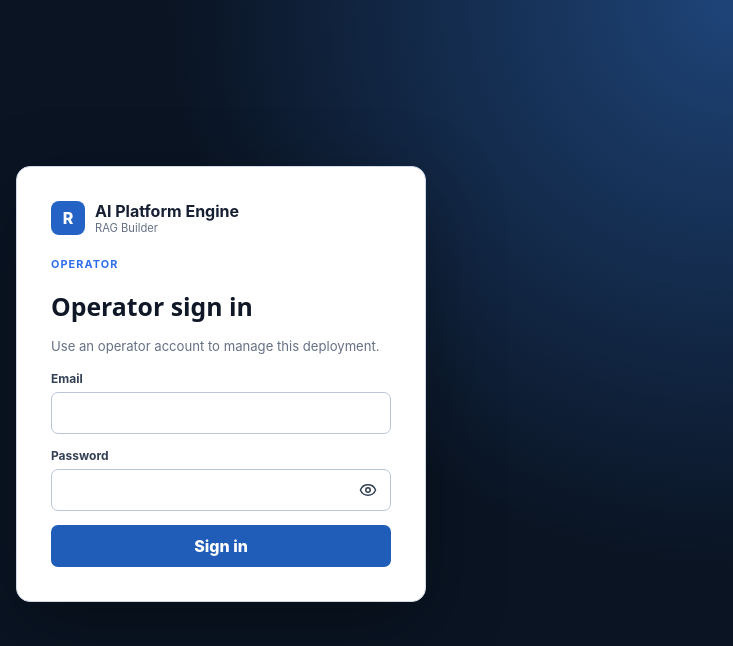
Test: validates required login credentials before submitting
What coordinates should you click on to do the following:
click the button "Sign in"
I would click on:
 (221, 546)
Its box is [51, 525, 391, 567].
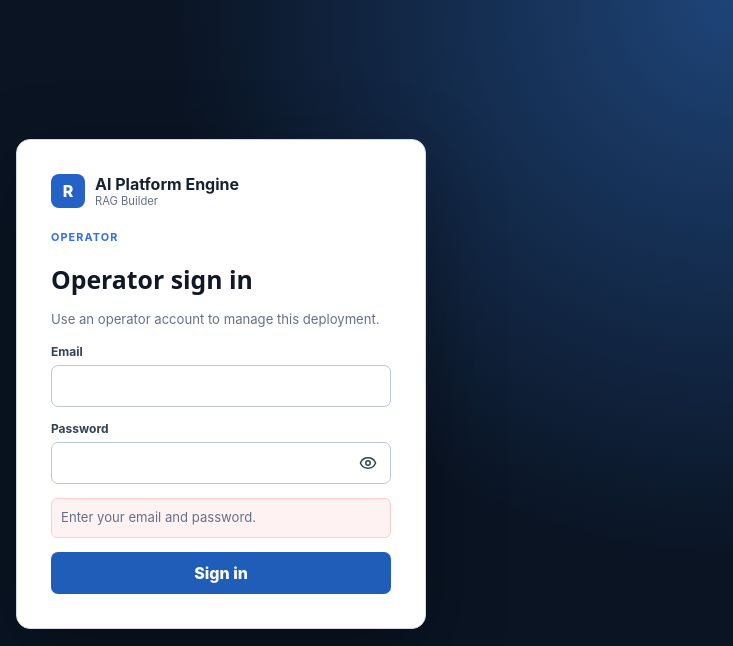
expect the message reads "Enter your email and password.": met, box [61, 509, 256, 525]
